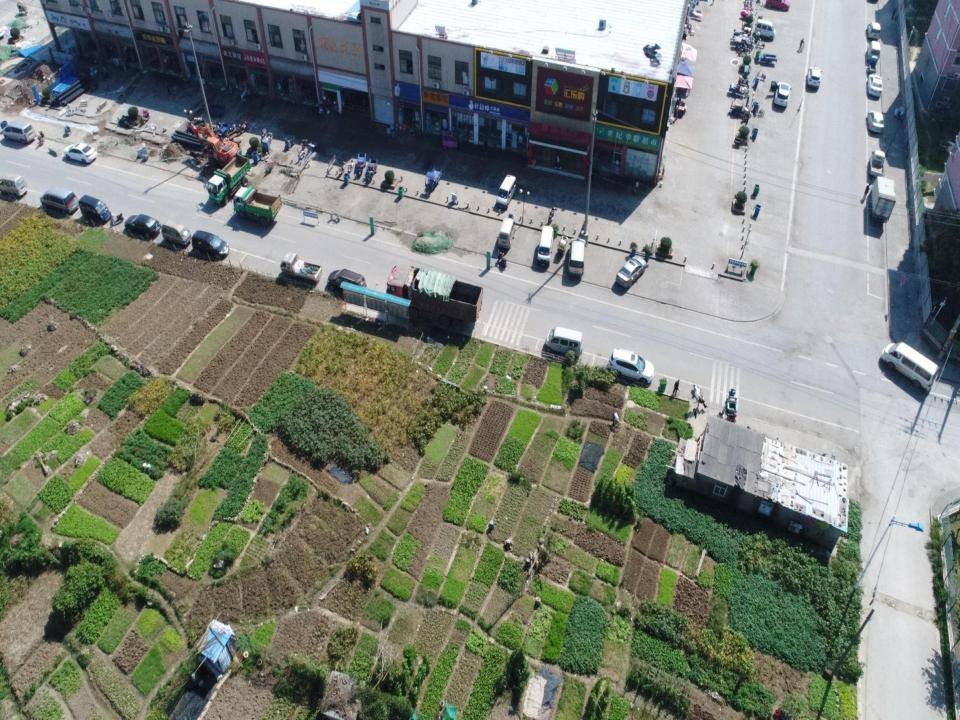car: (608, 347, 655, 386), (615, 253, 647, 289), (192, 230, 230, 260), (327, 268, 366, 296), (124, 213, 162, 239), (63, 142, 98, 164), (770, 81, 792, 108), (866, 110, 884, 134), (867, 74, 883, 98), (807, 66, 822, 88), (866, 22, 882, 40), (765, 0, 790, 11)
truck: (384, 264, 483, 328), (206, 152, 251, 207), (232, 184, 283, 228), (280, 250, 323, 286), (870, 174, 896, 222), (869, 149, 885, 176)
van: (880, 340, 940, 391), (545, 326, 583, 359), (39, 185, 80, 215), (78, 194, 111, 223), (161, 218, 192, 248), (1, 119, 36, 144), (567, 237, 586, 279), (0, 172, 29, 198), (537, 224, 554, 268), (496, 174, 517, 209), (497, 217, 516, 249), (754, 18, 776, 41), (867, 40, 881, 59)
